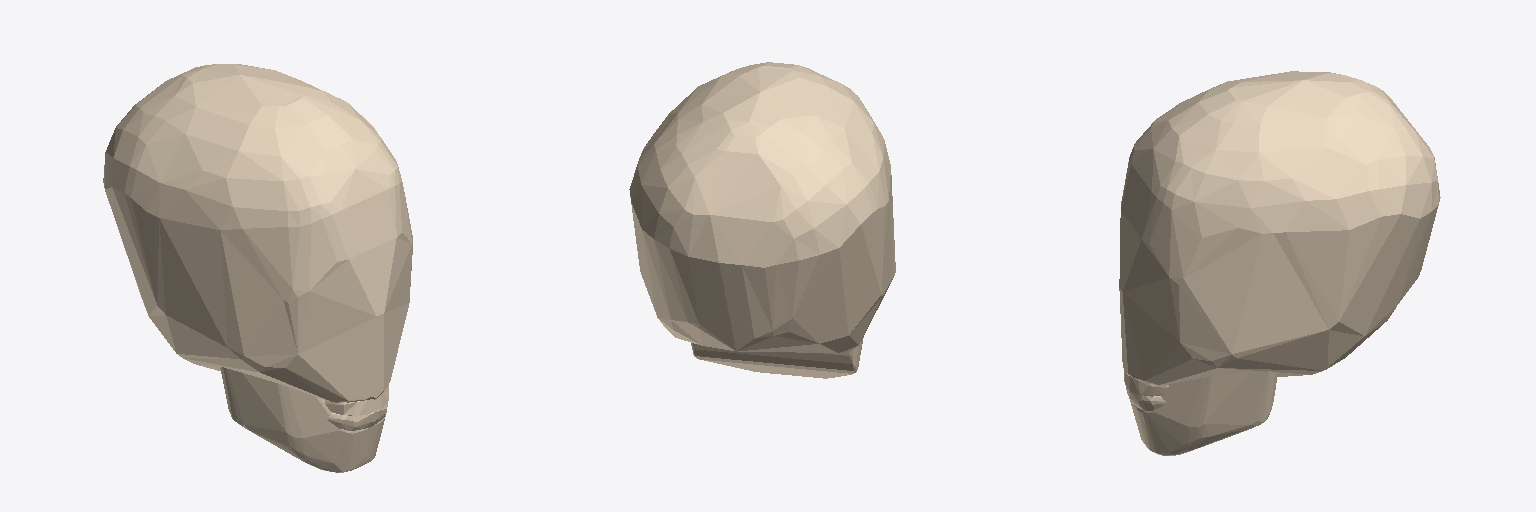
The model's file is skull_colliders.obj.
3 renders of one model, left to right at view 1: azimuth 30°, elevation 25°; view 2: azimuth 150°, elevation 25°; view 3: azimuth 270°, elevation 25°, orthographic.
Visible parts, largest first — view 1: skull, jaw, uteeth, lteeth; view 2: skull, jaw; view 3: skull, jaw, uteeth.
Boxes of the visible parts, x1,y1,x2,y2 form: skull: [103, 64, 412, 402]; jaw: [220, 367, 385, 472]; uteeth: [325, 385, 388, 415]; lteeth: [326, 403, 387, 430]; skull: [629, 62, 895, 352]; jaw: [691, 337, 863, 378]; skull: [1119, 71, 1440, 384]; jaw: [1129, 371, 1277, 455]; uteeth: [1124, 371, 1168, 396].
Bounding box in the file's own units: 5.23 × 7.32 × 6.14.